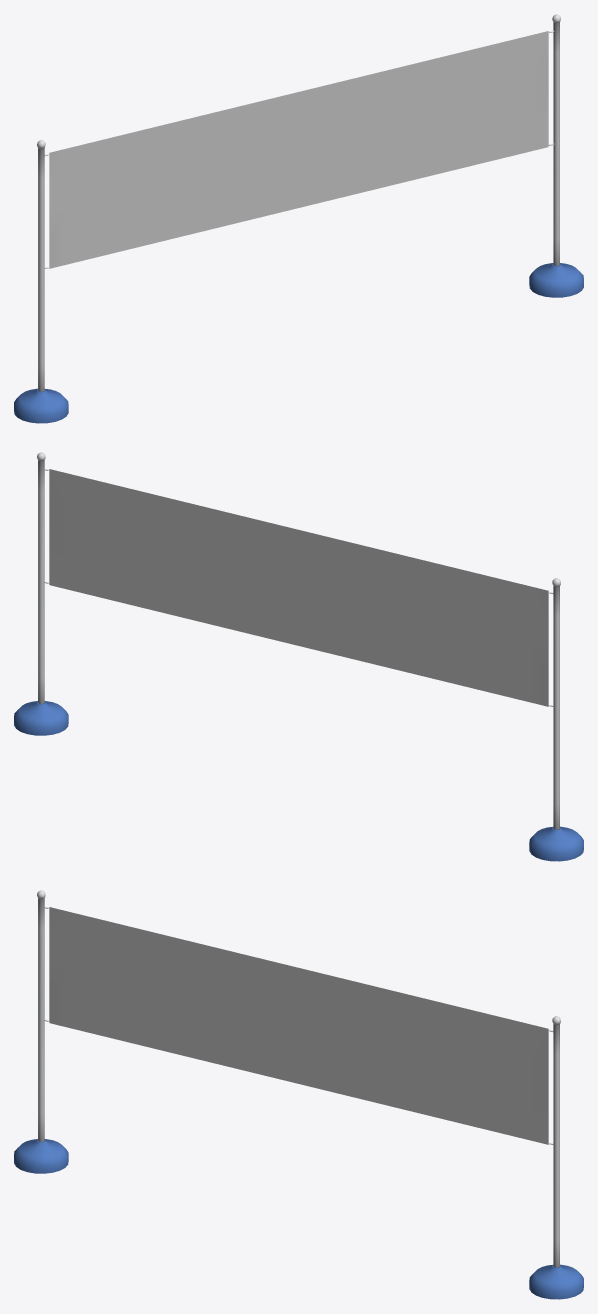
File: pr_banner.glb
3 renders of one model, top to bottom at view 1: azimuth 30°, elevation 25°; view 2: azimuth 150°, elevation 25°; view 3: azimuth 330°, elevation 25°, orthographic.
Visible parts, largest first — view 1: cloth, body; view 2: cloth, body; view 3: cloth, body.
Part boxes in pixels (bbox=[...]): cloth: bbox=[49, 31, 548, 268]; body: bbox=[14, 14, 583, 423]; cloth: bbox=[49, 469, 548, 706]; body: bbox=[14, 452, 583, 861]; cloth: bbox=[49, 907, 548, 1144]; body: bbox=[14, 890, 583, 1299].
Bounding box in the file's own units: 7.1 × 3.27 × 0.6.
